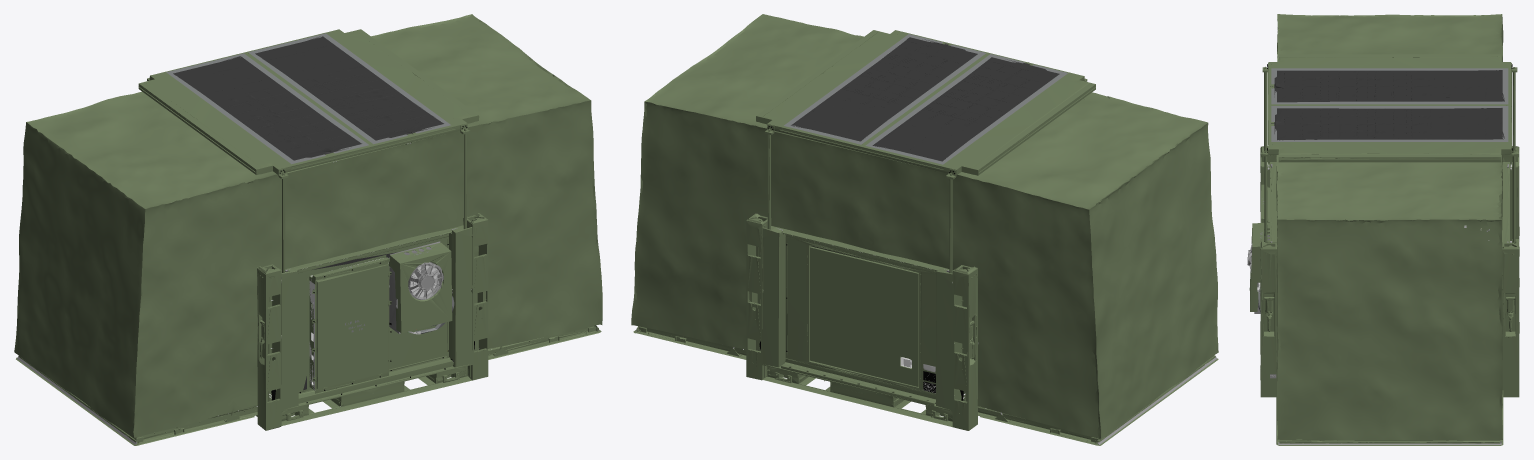
The model's file is trecc-open.glb.
The picture shows the model from 3 angles, left to right: view 1: azimuth 30°, elevation 25°; view 2: azimuth 150°, elevation 25°; view 3: azimuth 270°, elevation 25°; orthographic projection. The views are drawn at different scales.
Visible parts, largest first — view 1: Solid4340; view 2: Solid4340; view 3: Solid4340.
Part boxes in pixels (x1,y1,x2,y2): Solid4340: (14, 14, 602, 445); Solid4340: (631, 14, 1218, 445); Solid4340: (1247, 14, 1519, 445).
Size of the model in its own units: 4.52 by 2.35 by 2.39.
